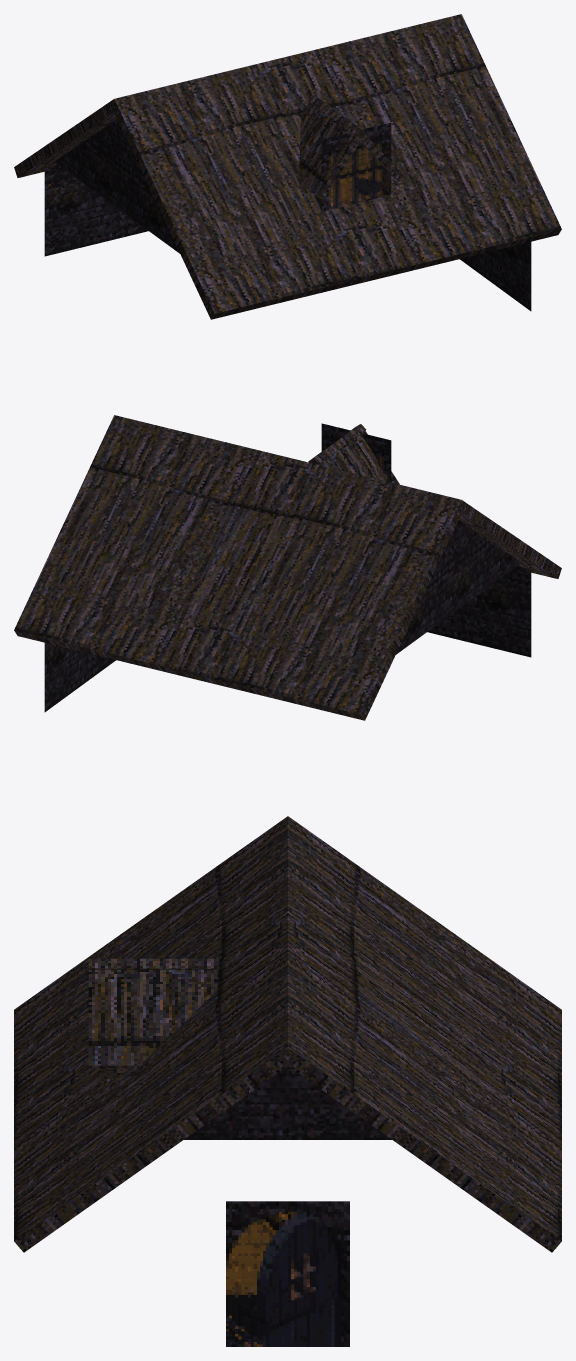
The picture shows the model from 3 angles, top to bottom: view 1: azimuth 30°, elevation 25°; view 2: azimuth 150°, elevation 25°; view 3: azimuth 270°, elevation 25°; orthographic projection. The views are drawn at different scales.
Parts seen in each view (by area): view 1: b_68_78; view 2: b_68_78; view 3: b_68_78.
Part boxes in pixels (box(x1,y1,x2,y2)): b_68_78: box(14, 14, 561, 319); b_68_78: box(14, 415, 561, 720); b_68_78: box(14, 816, 561, 1346).
Size of the model in its own units: 7.5 by 4.7 by 7.5.
4 materials, 4 textured.
